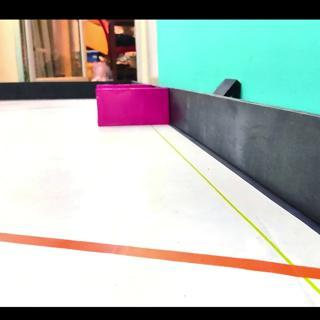xparking: (97, 90, 166, 125)
